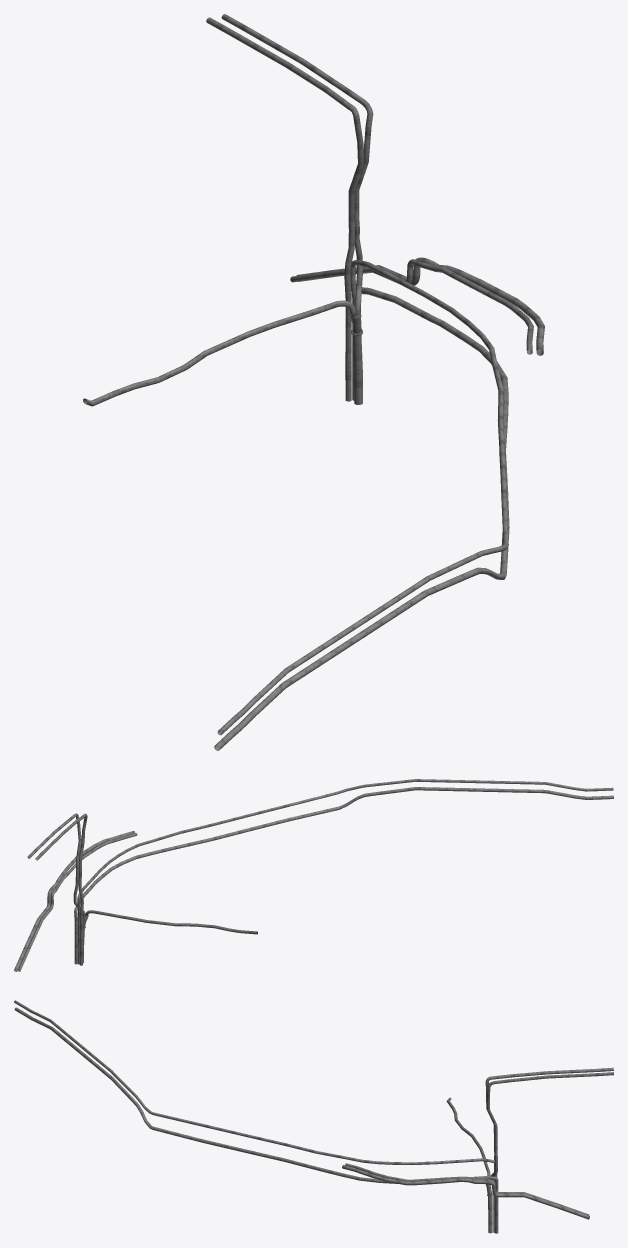
The picture shows the model from 3 angles, top to bottom: view 1: azimuth 30°, elevation 25°; view 2: azimuth 150°, elevation 25°; view 3: azimuth 270°, elevation 25°; orthographic projection. The views are drawn at different scales.
Parts seen in each view (by area): view 1: Cube.031; view 2: Cube.031; view 3: Cube.031.
Boxes of the visible parts, x1,y1,x2,y2 form: Cube.031: [83, 14, 544, 750]; Cube.031: [14, 779, 613, 971]; Cube.031: [14, 1000, 613, 1233].
Bounding box in the file's own units: 6609 × 2791 × 9673.
